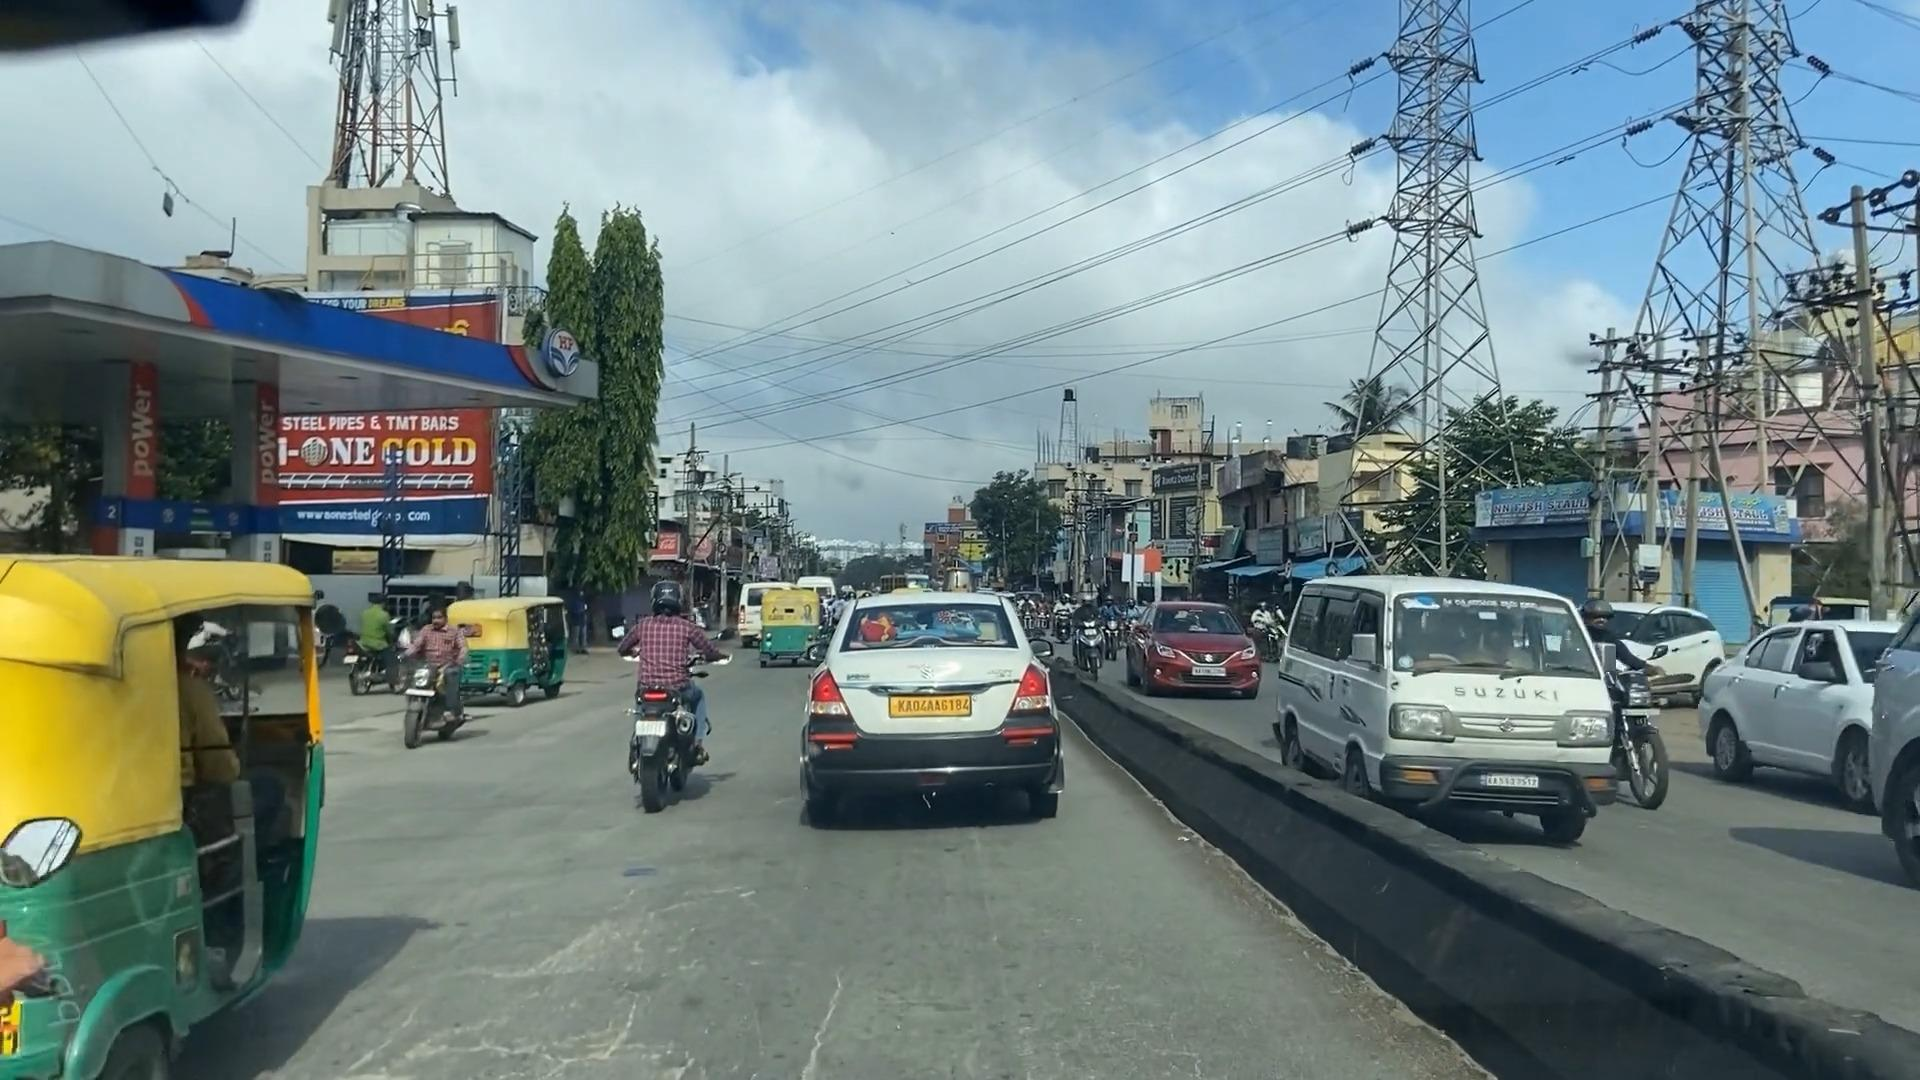LMV: (1, 564, 327, 1080), (811, 578, 1063, 827), (604, 584, 709, 829)
RoadDamages: (355, 918, 732, 1080), (798, 948, 858, 1080)
